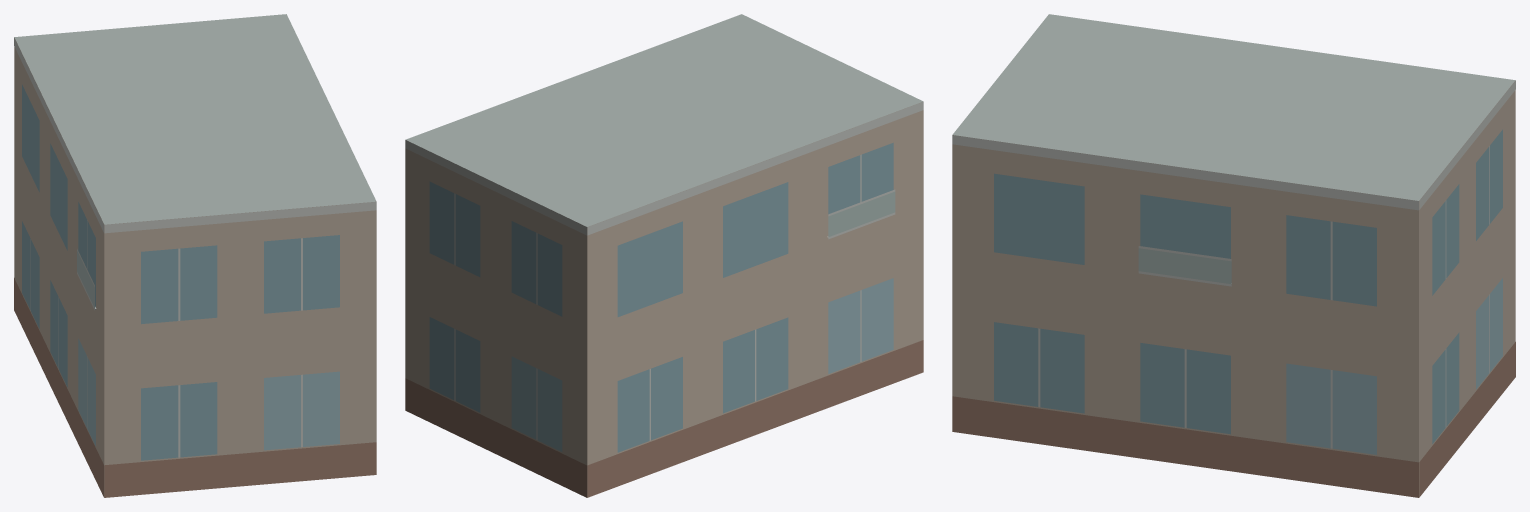
File: survey-upis-32935300.glb
3 views of the same model, side by side, from view 1: azimuth 30°, elevation 25°; view 2: azimuth 150°, elevation 25°; view 3: azimuth 270°, elevation 25° (orthographic). The views are drawn at different scales.
Visible parts, largest first — view 1: survey-upis-32935300.tmp; view 2: survey-upis-32935300.tmp; view 3: survey-upis-32935300.tmp.
Part boxes in pixels (x1,y1,x2,y2): survey-upis-32935300.tmp: (14,14,376,497); survey-upis-32935300.tmp: (405,14,923,497); survey-upis-32935300.tmp: (952,14,1515,497).
Size of the model in its own units: 10.41 by 7.7 by 13.26.
